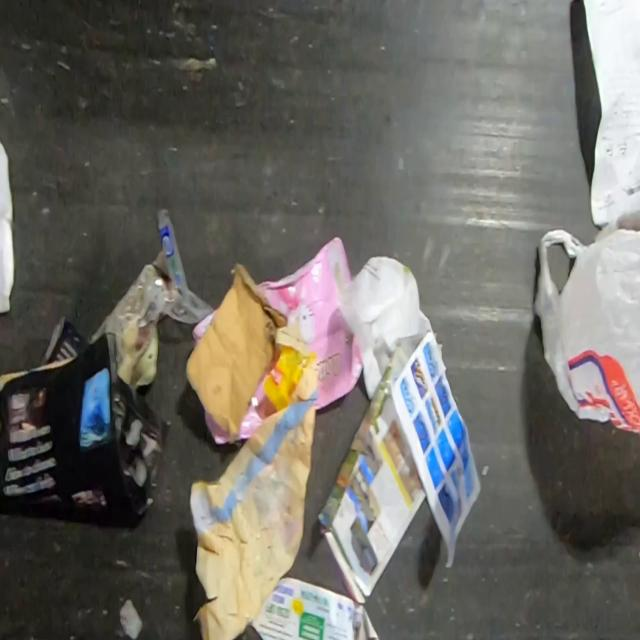cardboard: (184, 263, 286, 437)
soft_plastic: (531, 213, 640, 434), (89, 207, 215, 384), (255, 235, 362, 410), (203, 343, 283, 445), (190, 310, 215, 341)
